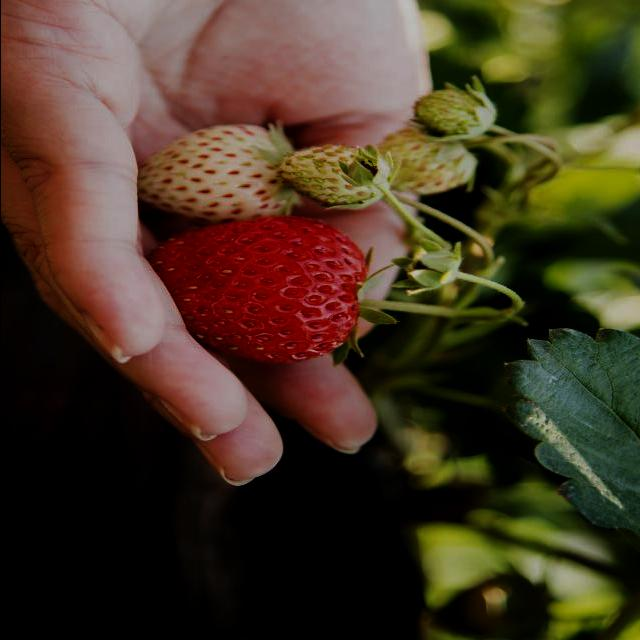ripe: (136, 214, 370, 369)
unripe: (132, 120, 306, 223), (273, 138, 388, 212), (374, 127, 484, 203), (414, 79, 505, 142)
